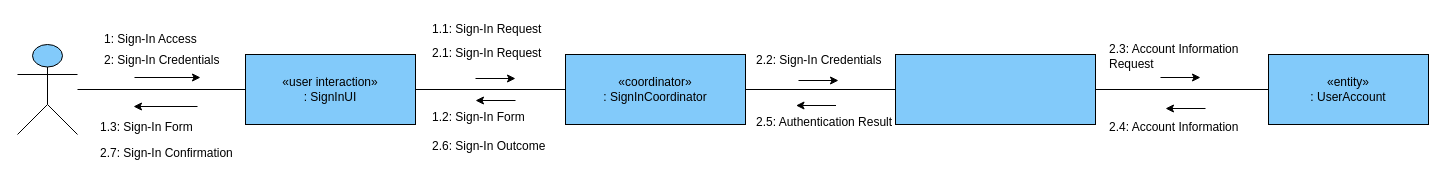
Image size: 1446x187. Some labels were removed from this diagram. The shapes that lost their labels are listed below. From the top down, each one's centre as x and y in pixels, then its label:
the point at 47,89: Registered User
the point at 995,89: «service» : AuthenticationService
